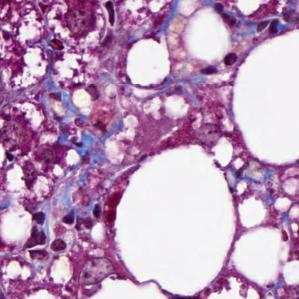inflammation: (66, 0, 98, 38), (201, 52, 240, 79), (216, 1, 237, 34), (32, 210, 48, 246)
